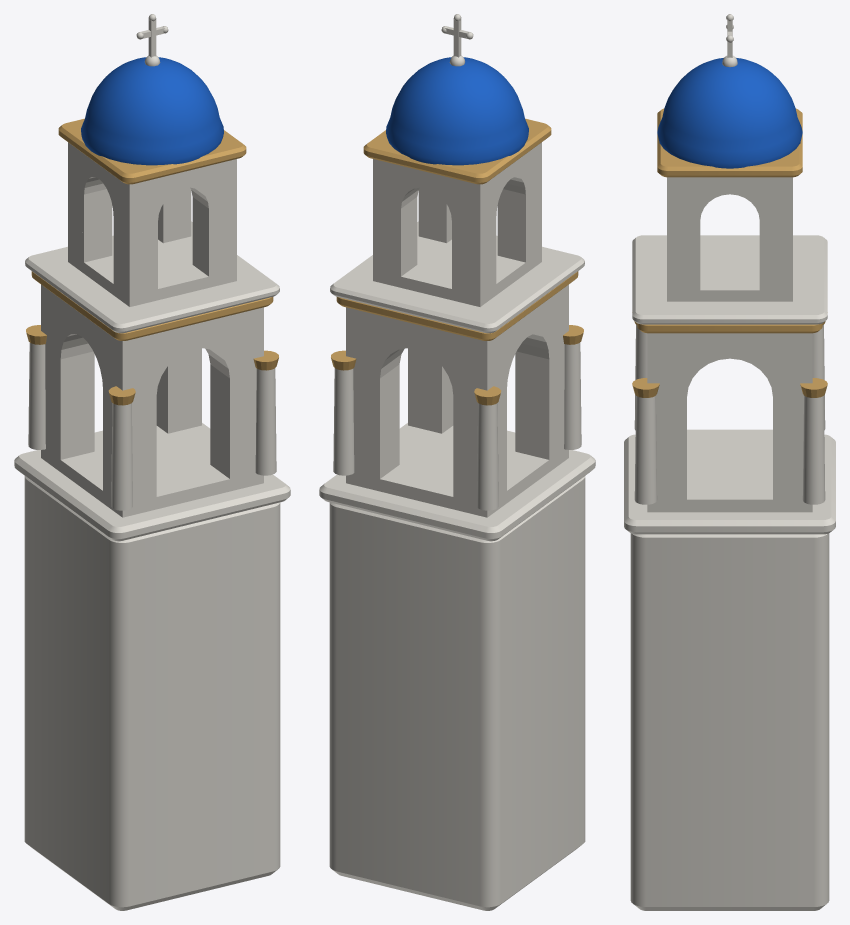
File: bell-tower.glb
The picture shows the model from 3 angles, left to right: view 1: azimuth 30°, elevation 25°; view 2: azimuth 150°, elevation 25°; view 3: azimuth 270°, elevation 25°; orthographic projection.
Visible parts, largest first — view 1: white0, white2, white5, blue15, white4, white1, ochre6, white9, white13, ochre3, white7; view 2: white0, white2, white5, blue15, white4, white1, ochre6, white7, white11, ochre3, white9; view 3: white0, white2, white5, blue15, white4, white1, ochre6, white11, white13, ochre3, white7, white9.
Part boxes in pixels (x1,y1,x2,y2): white0: [24, 476, 280, 910]; white2: [41, 284, 263, 517]; white5: [68, 142, 236, 306]; blue15: [81, 57, 223, 165]; white4: [25, 221, 279, 333]; white1: [14, 423, 290, 541]; ochre6: [58, 118, 246, 184]; white9: [111, 403, 132, 510]; white13: [255, 368, 276, 475]; ochre3: [31, 271, 273, 340]; white7: [28, 342, 45, 449]; white0: [329, 476, 585, 910]; white2: [346, 284, 568, 517]; white5: [373, 142, 541, 306]; blue15: [386, 57, 528, 165]; white4: [330, 221, 584, 333]; white1: [319, 423, 595, 541]; ochre6: [363, 118, 551, 184]; white7: [477, 403, 498, 510]; white11: [333, 368, 354, 475]; ochre3: [336, 271, 578, 340]; white9: [564, 342, 581, 449]; white0: [630, 533, 829, 910]; white2: [647, 333, 812, 512]; white5: [667, 177, 792, 301]; blue15: [657, 58, 802, 168]; white4: [632, 235, 827, 324]; white1: [624, 434, 835, 534]; ochre6: [657, 108, 802, 177]; white11: [802, 395, 825, 504]; white13: [634, 395, 657, 504]; ochre3: [637, 323, 822, 333]; white7: [812, 324, 825, 430]; white9: [634, 324, 647, 430].
Size of the model in its own units: 3.2 by 14.31 by 3.2.
